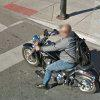Motorcycle: (18, 26, 100, 96)
